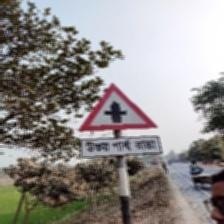Crossroad: (77, 83, 160, 160)
